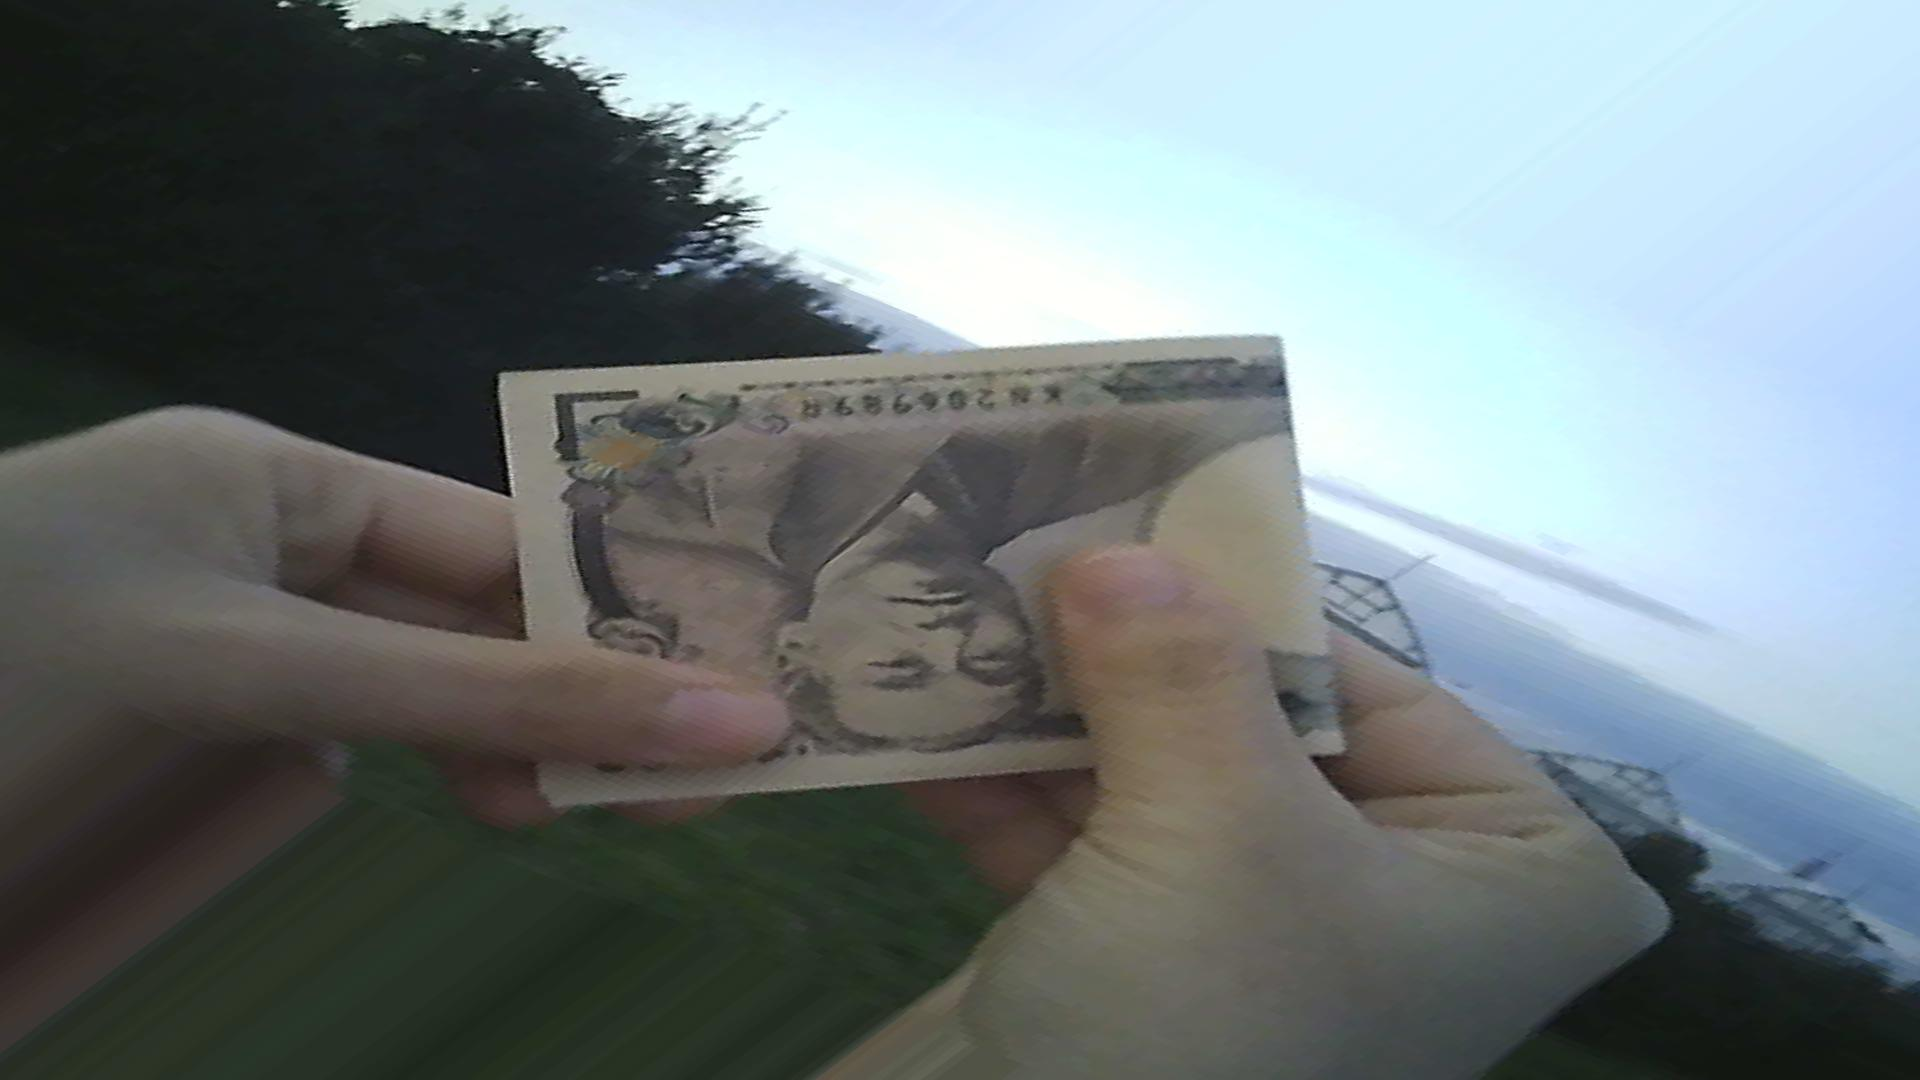10,000 Yen: (464, 303, 1331, 810)
